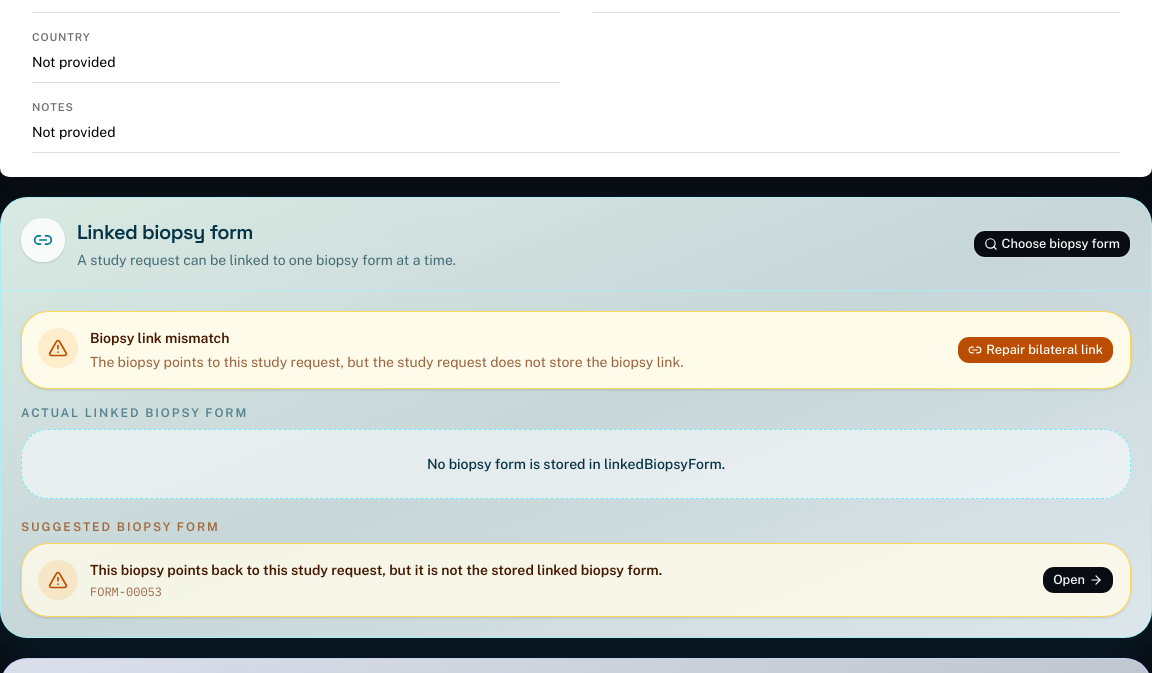
TwoPQFormDetail › separates a suggested reverse link from the stored link and repairs it
(page scrolled)
Expected: the text "Biopsy link mismatch" is shown, [90,330,229,346]
Expected: the text "Suggested biopsy form" is shown, [21,520,220,534]
Click the button "Repair bilateral link" at (1036, 350), box [957,336,1114,364]
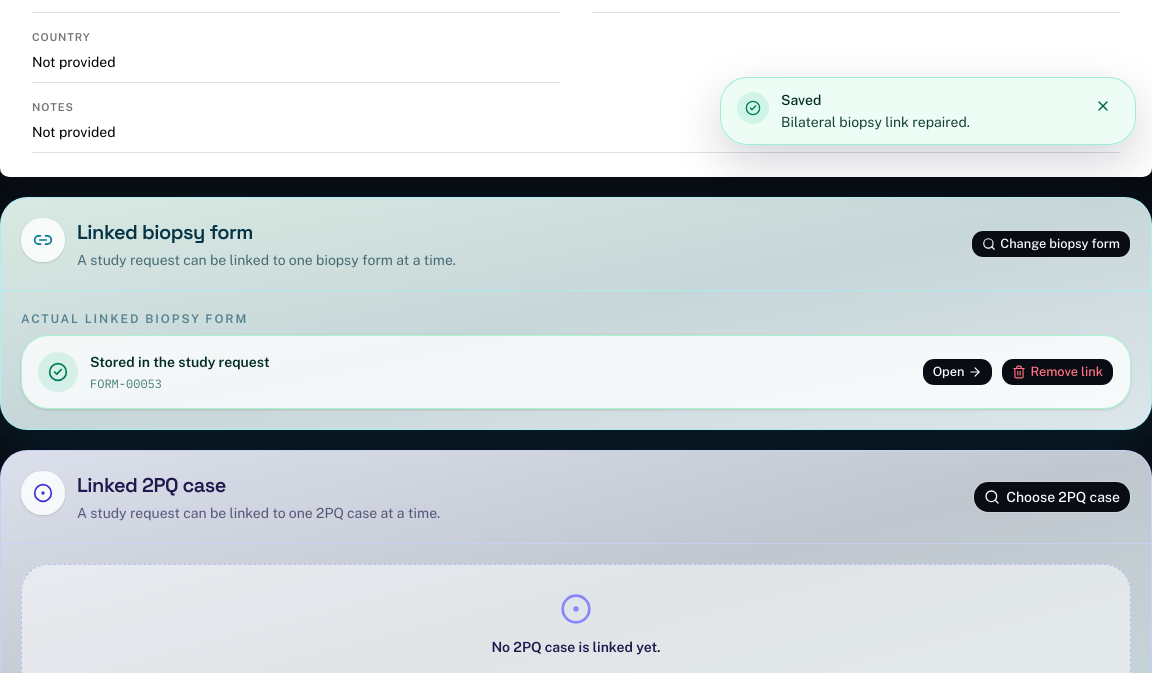
Expected: the text "Stored in the study request" is shown, [90,352,270,372]
Expected: the text "Suggested biopsy form" is gone
Expected: the text "Biopsy link mismatch" is gone
